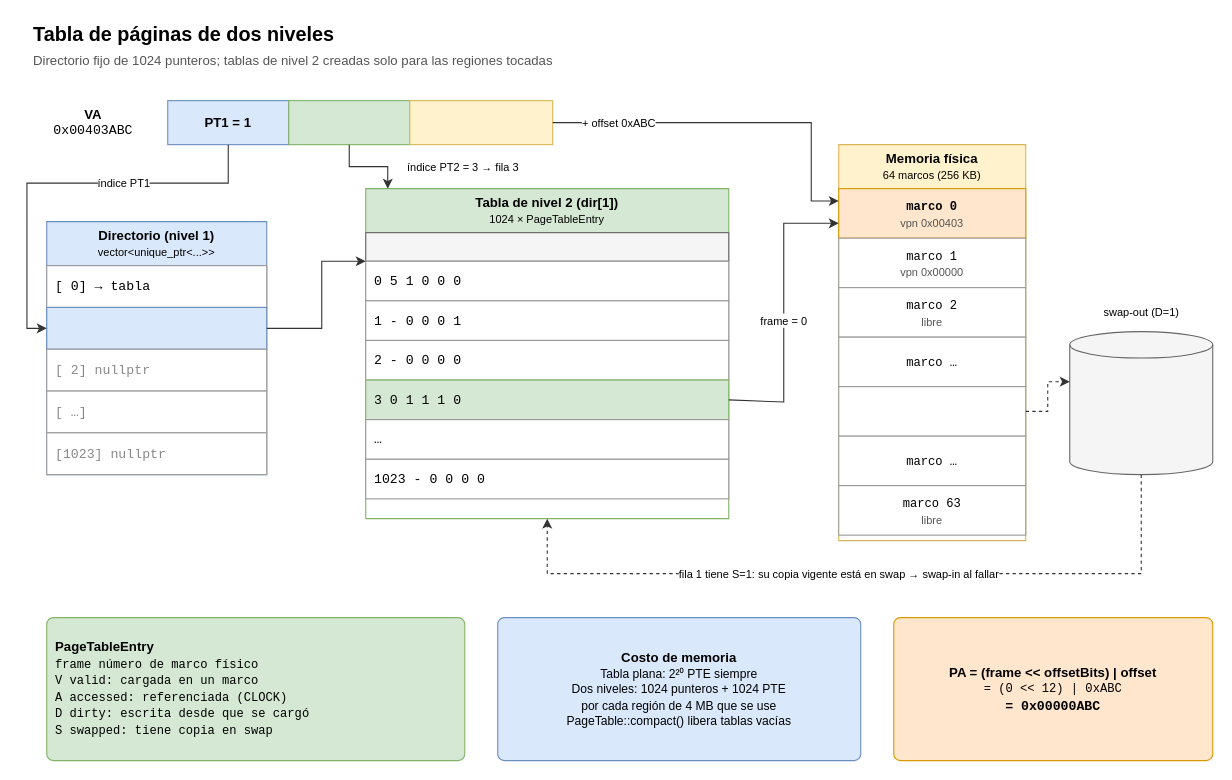
The diagram is 1232 pixels wide and 780 high, and some of its shapes have lost their labels. Here are the shapes that lost their labels. From the top down, the centre of each, then its label:
At [349,122]: "PT2 = 3".
At [481,122]: "Offset = 0xABC".
At [547,246]: "idx frame V A D S".
At [156,327]: "[ 1] → tabla".
At [932,411]: "marco 5 vpn 0x00400".
At [1141,403]: "BackingStore vpn 0x00401 (dir1, idx1)".
